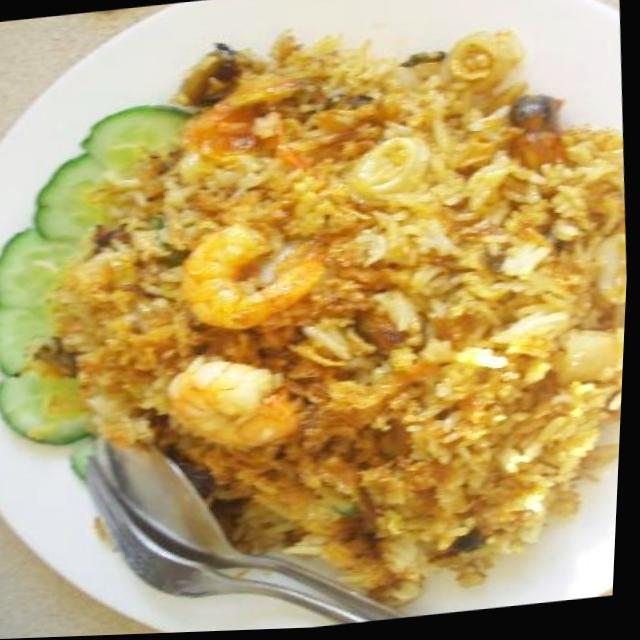米饭主食: (12, 0, 640, 639)
